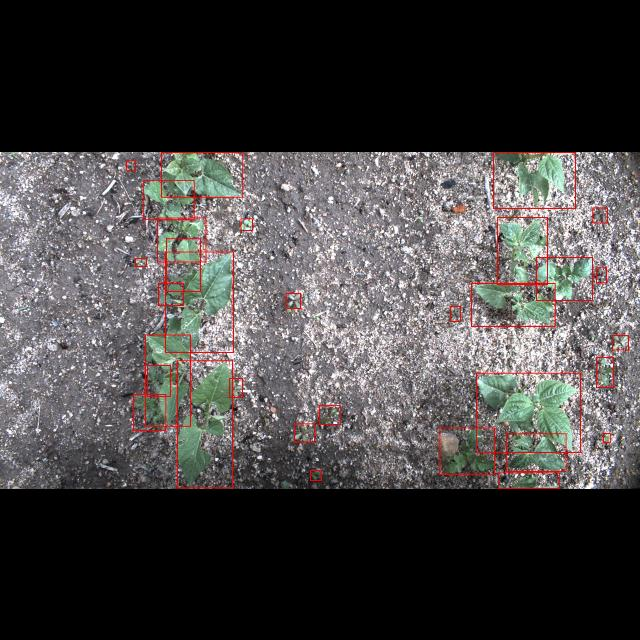crop: (476, 372, 580, 452), (165, 250, 233, 352), (178, 360, 232, 488), (493, 151, 575, 207), (146, 334, 190, 426), (471, 282, 555, 326), (162, 152, 242, 196), (498, 216, 548, 284), (536, 256, 592, 300), (506, 433, 566, 471), (166, 238, 200, 290), (499, 472, 559, 488)
weed: (440, 428, 494, 474), (158, 217, 206, 261), (142, 180, 194, 218), (134, 394, 166, 431), (148, 366, 170, 396), (158, 282, 184, 306), (596, 357, 614, 387), (294, 424, 314, 442), (320, 406, 340, 424), (612, 334, 628, 350), (592, 206, 608, 222), (230, 378, 242, 397), (286, 292, 300, 308), (241, 218, 253, 230), (450, 306, 460, 320), (596, 268, 606, 282), (310, 470, 322, 480), (126, 160, 136, 170), (136, 257, 146, 265), (604, 433, 610, 442)
